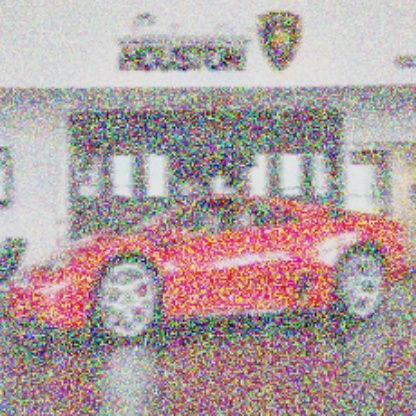Vehicle: (7, 193, 410, 342)
